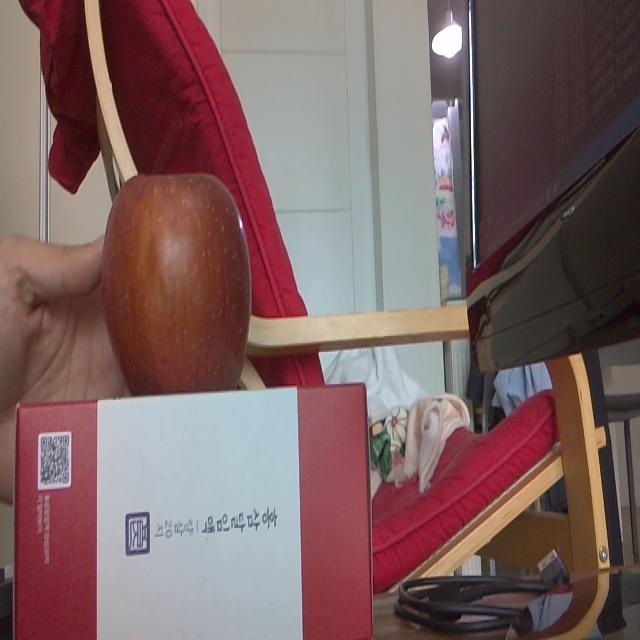apple: (100, 177, 250, 389)
